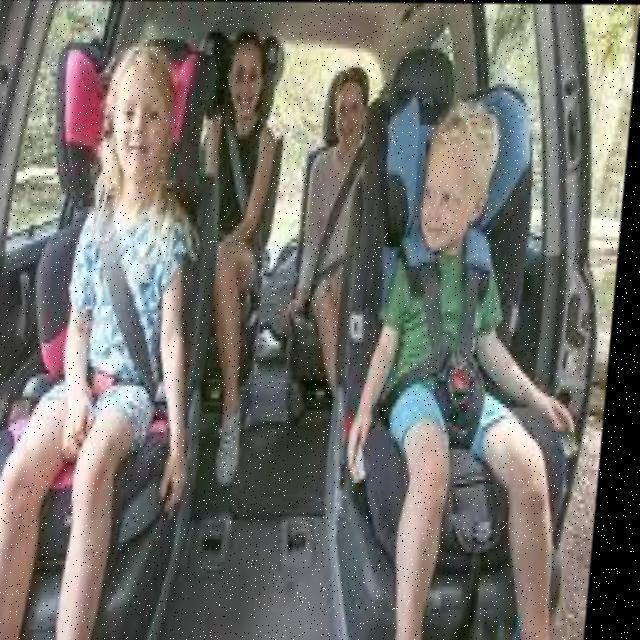seatbelt: (80, 196, 186, 430), (204, 94, 277, 264), (306, 138, 372, 300)
